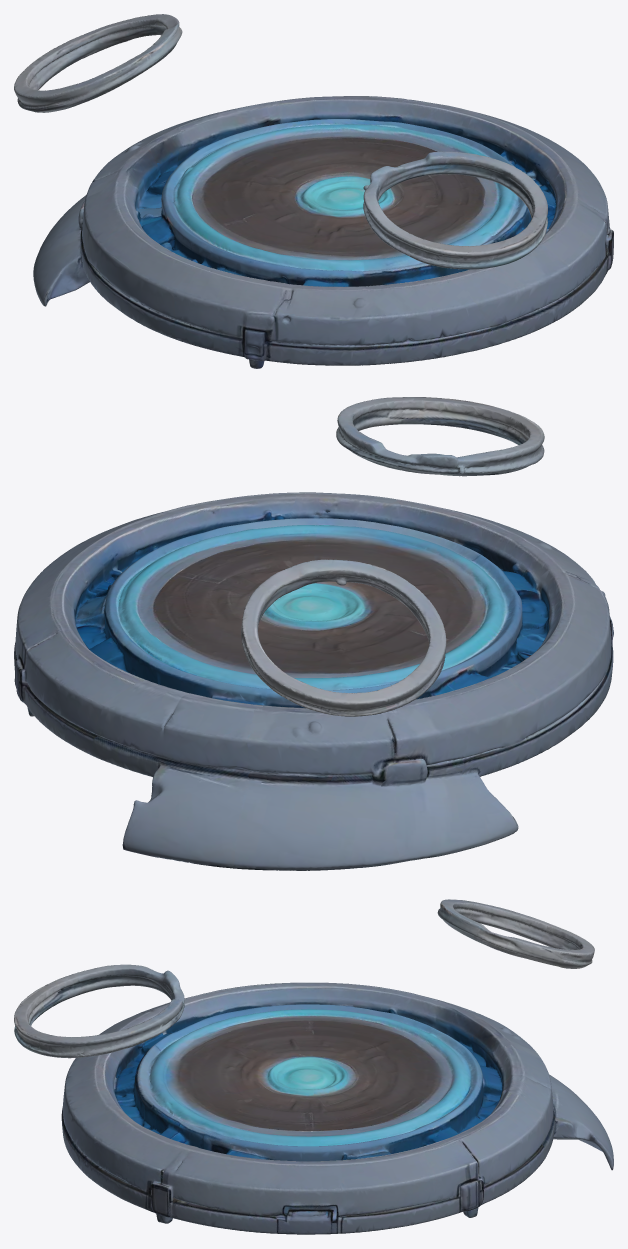
The model's file is jarvis_core_avatar.glb.
3 views of the same model, one above another, from view 1: azimuth 30°, elevation 25°; view 2: azimuth 150°, elevation 25°; view 3: azimuth 270°, elevation 25° (orthographic). The views are drawn at different scales.
Visible parts, largest first — view 1: tripo_node_5fb6ef9a-337a-49ff-96a7-be829970cc43; view 2: tripo_node_5fb6ef9a-337a-49ff-96a7-be829970cc43; view 3: tripo_node_5fb6ef9a-337a-49ff-96a7-be829970cc43.
Part boxes in pixels (x1,y1,x2,y2): tripo_node_5fb6ef9a-337a-49ff-96a7-be829970cc43: (14,14,613,368); tripo_node_5fb6ef9a-337a-49ff-96a7-be829970cc43: (14,397,613,870); tripo_node_5fb6ef9a-337a-49ff-96a7-be829970cc43: (14,899,613,1234).
Bounding box in the file's own units: 0.8525 × 0.3828 × 0.9999.
1 material, 1 textured.
